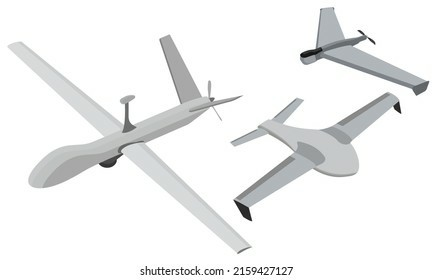maybay_khongnguoilai: (10, 41, 250, 253)
